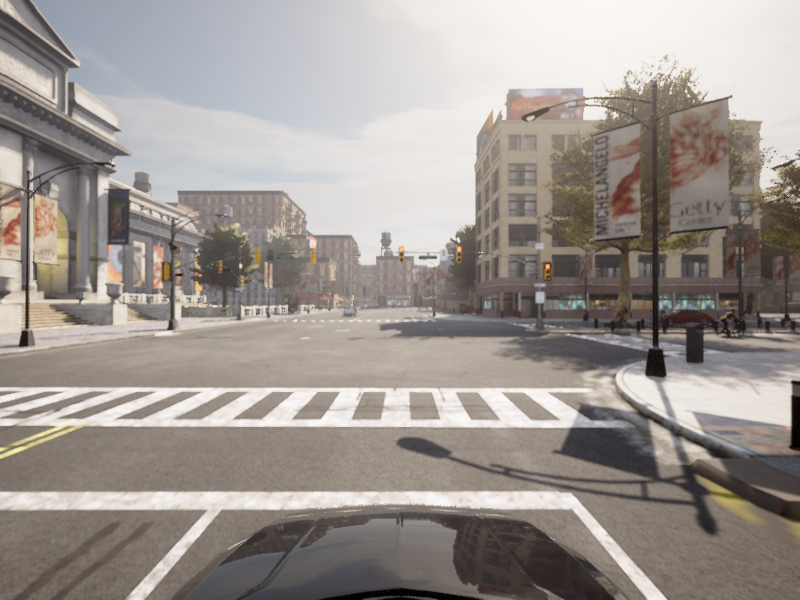vehicle: (646, 308, 715, 326), (711, 309, 748, 338)
